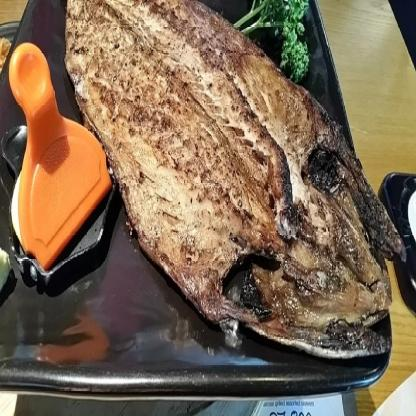Peixe: (63, 0, 398, 363)
